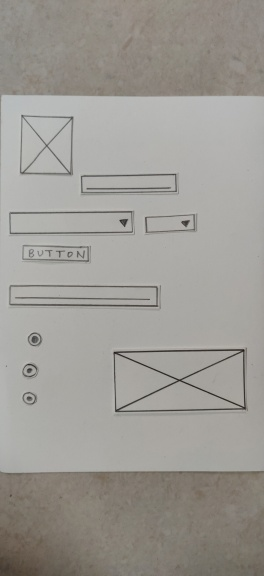dropdown: (6, 208, 136, 237), (143, 213, 199, 236)
img: (106, 346, 250, 415), (17, 111, 75, 181)
radio: (20, 361, 41, 380), (20, 389, 39, 408), (25, 331, 43, 349)
text: (6, 281, 164, 312), (78, 172, 179, 196)
